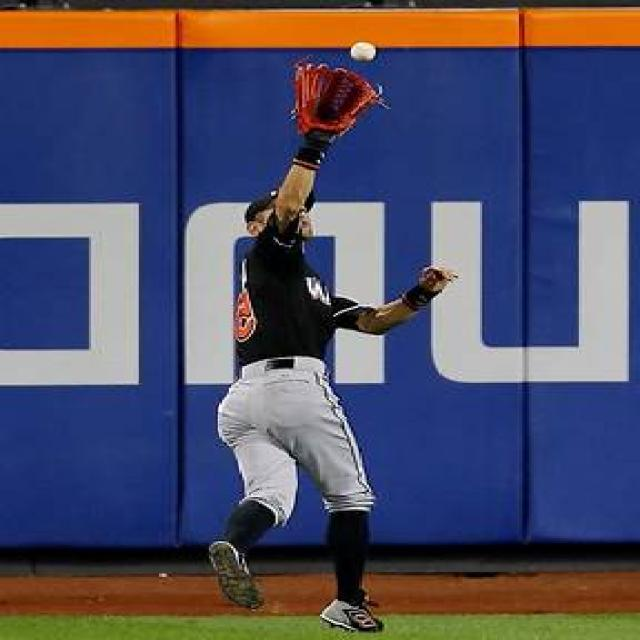ball: (348, 41, 378, 62)
glove: (279, 48, 394, 142)
